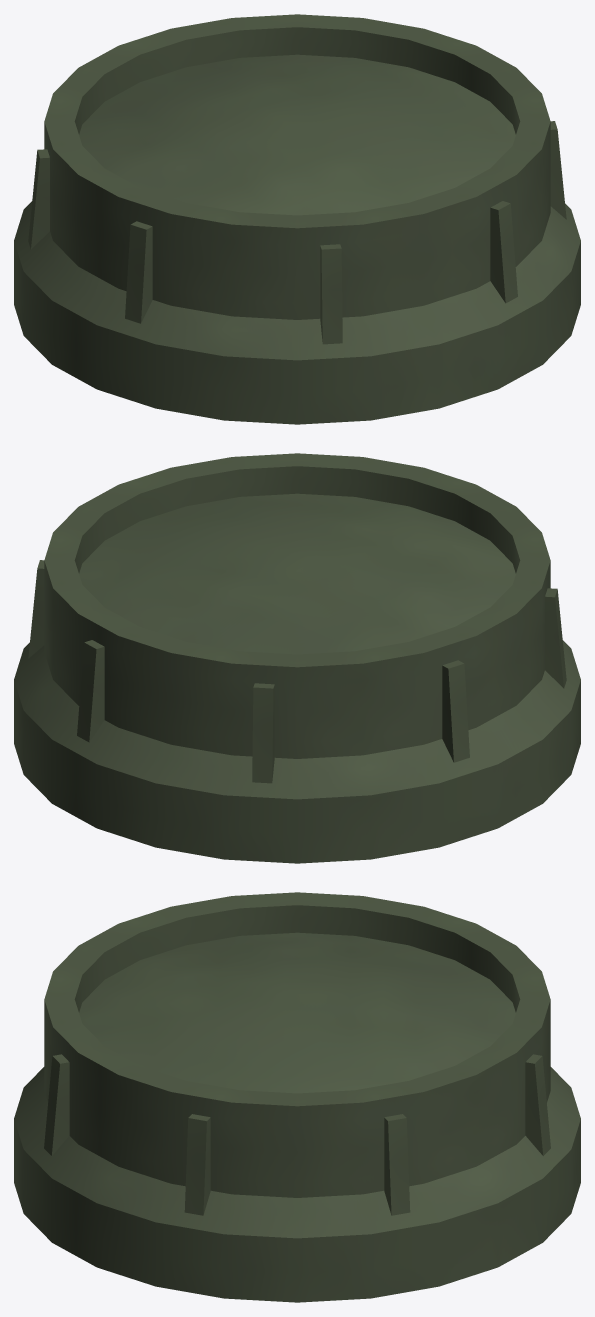
The model's file is airlock door.obj.
3 views of the same model, one above another, from view 1: azimuth 30°, elevation 25°; view 2: azimuth 150°, elevation 25°; view 3: azimuth 270°, elevation 25° (orthographic).
Visible parts, largest first — view 1: door; view 2: door; view 3: door.
Part boxes in pixels (box(x1,y1,x2,y2)): door: box(14, 14, 580, 424); door: box(14, 453, 580, 863); door: box(14, 892, 580, 1302).
Bounding box in the file's own units: 0.7 × 0.25 × 0.7.
